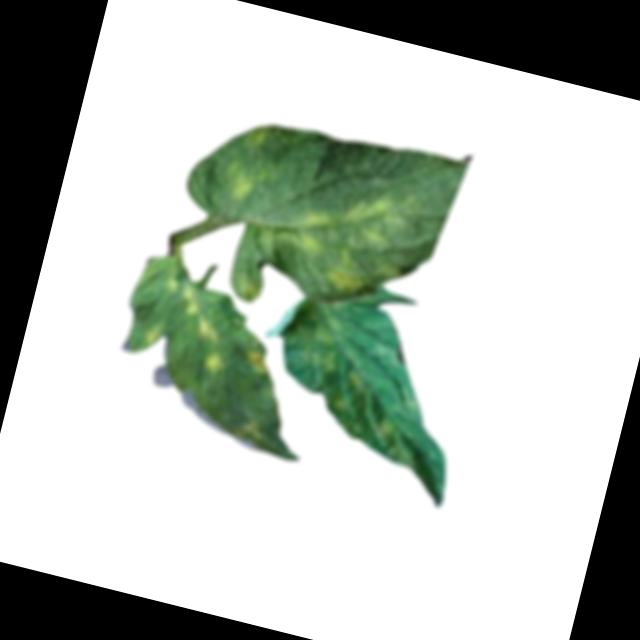Leaf_Mold: (271, 173, 418, 303), (278, 288, 355, 374), (321, 366, 402, 444), (218, 121, 285, 209), (163, 277, 205, 317), (238, 345, 269, 376), (230, 420, 262, 447), (191, 316, 220, 344), (201, 348, 227, 378), (139, 320, 164, 349)
